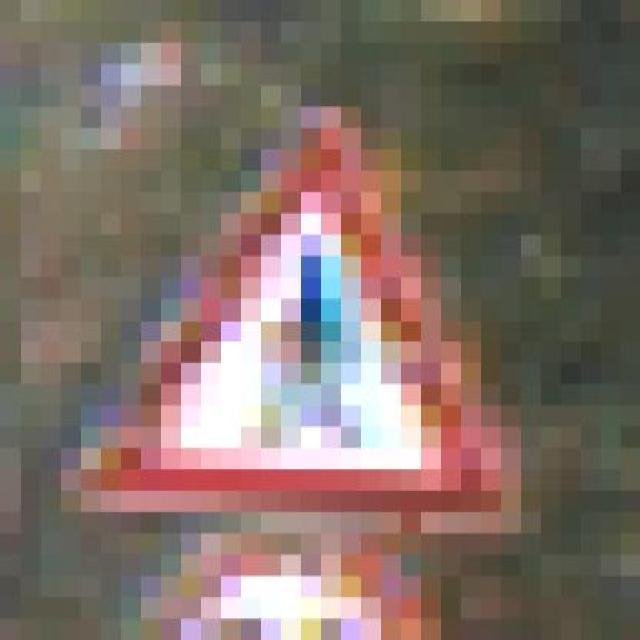Pedestrian Crossing: (40, 106, 520, 534)
